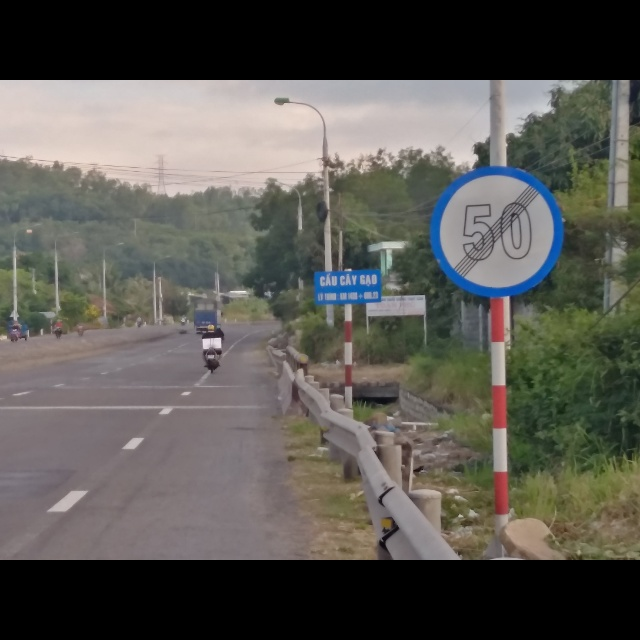Hết hạn chế tốc độ tối đa 50km/h: (428, 164, 565, 298)
